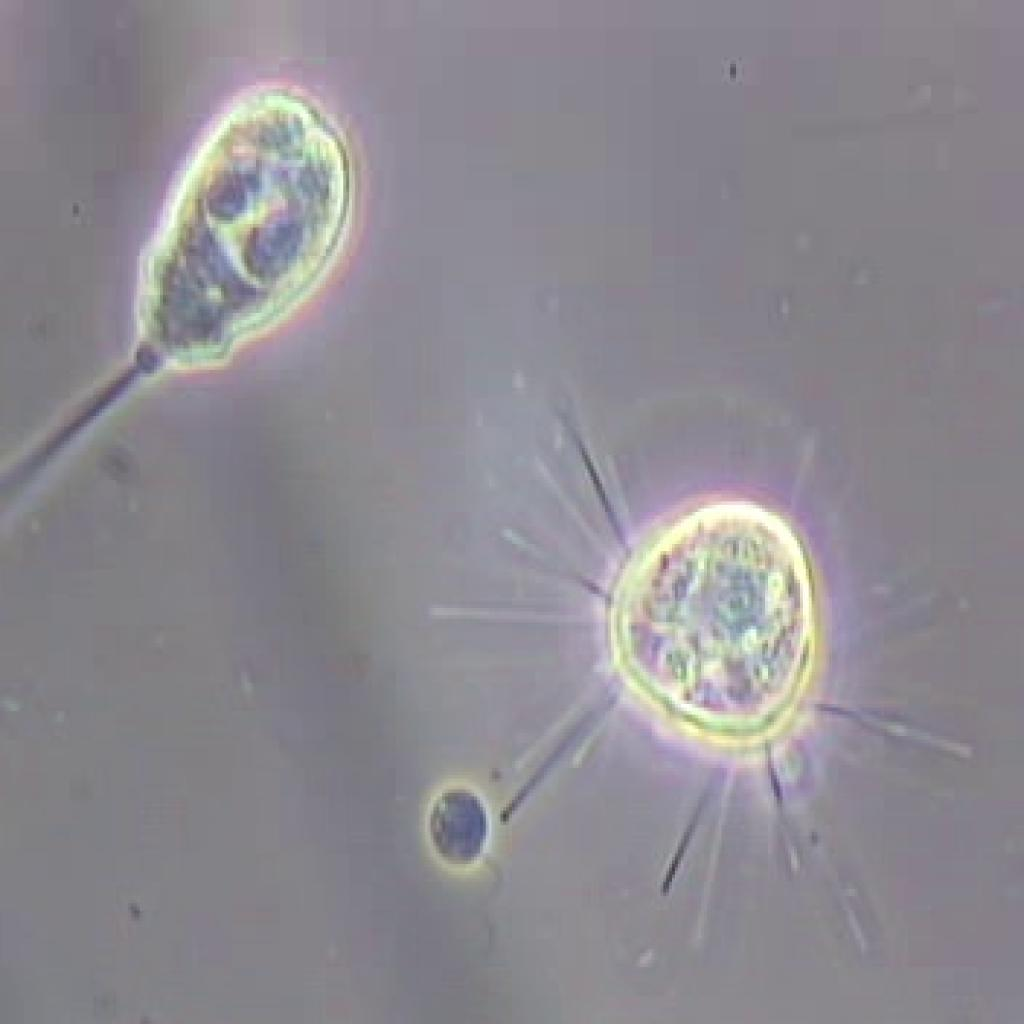Suctorida: (483, 374, 960, 924)
